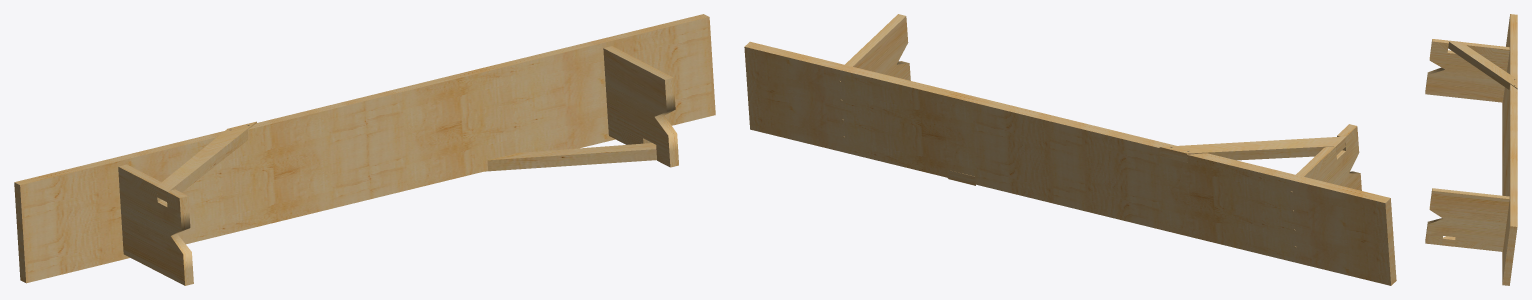
File: bench-1769022327688.glb
The picture shows the model from 3 angles, left to right: view 1: azimuth 30°, elevation 25°; view 2: azimuth 150°, elevation 25°; view 3: azimuth 270°, elevation 25°; orthographic projection. The views are drawn at different scales.
Parts seen in each view (by area): view 1: pCube1 (×2), pCube2 (×2), pCube3 (×2); view 2: pCube1 (×2), pCube2 (×2), pCube3; view 3: pCube2 (×2), pCube1 (×2), pCube3 (×2).
Part boxes in pixels (x1,y1,x2,y2): pCube1 (×2): [14, 14, 715, 283]; pCube2 (×2): [118, 46, 678, 285]; pCube3 (×2): [156, 121, 656, 201]; pCube1 (×2): [744, 41, 1396, 285]; pCube2 (×2): [845, 14, 1361, 190]; pCube3: [1159, 136, 1345, 162]; pCube2 (×2): [1425, 39, 1509, 251]; pCube1 (×2): [1502, 14, 1517, 285]; pCube3 (×2): [1442, 40, 1517, 246].
Bounding box in the file's own units: 0.1951 × 0.0283 × 0.0359.
1 material, 1 textured.
